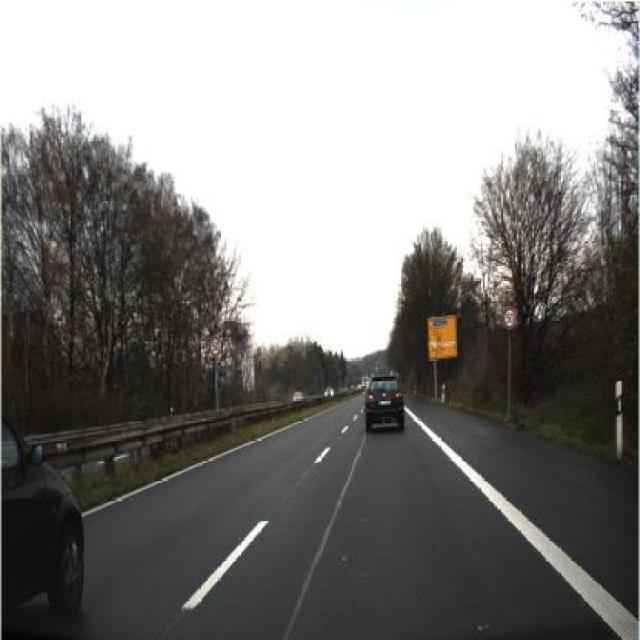forb_speed_over_50: (502, 303, 518, 332), (209, 334, 223, 358)
